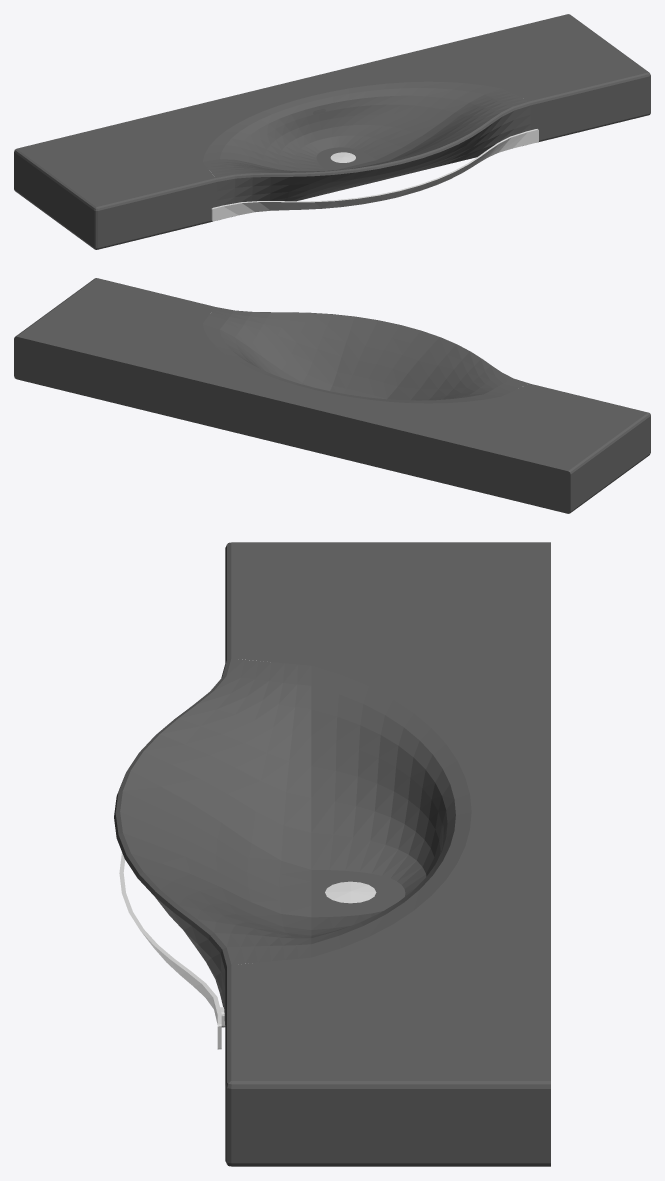
Rendered from AEC_43539.glb.
The picture shows the model from 3 angles, top to bottom: view 1: azimuth 30°, elevation 25°; view 2: azimuth 150°, elevation 25°; view 3: azimuth 270°, elevation 25°; orthographic projection. The views are drawn at different scales.
Parts seen in each view (by area): view 1: 0; view 2: 0; view 3: 0.
Boxes of the visible parts, x1=… form: 0: x1=14, y1=14, x2=650, y2=249; 0: x1=14, y1=278, x2=650, y2=513; 0: x1=114, y1=542, x2=550, y2=1166.
Size of the model in its own units: 1.5 by 0.1099 by 0.51.
1 material, 1 textured.
